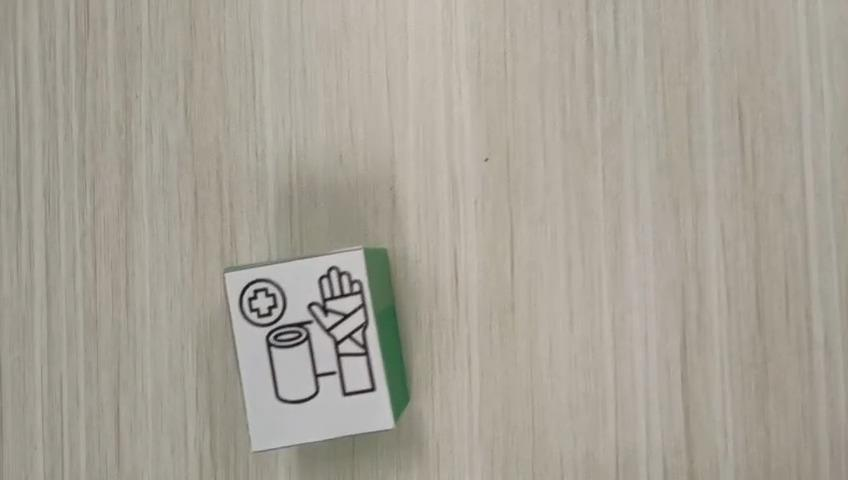Bandages: (222, 244, 410, 452)
